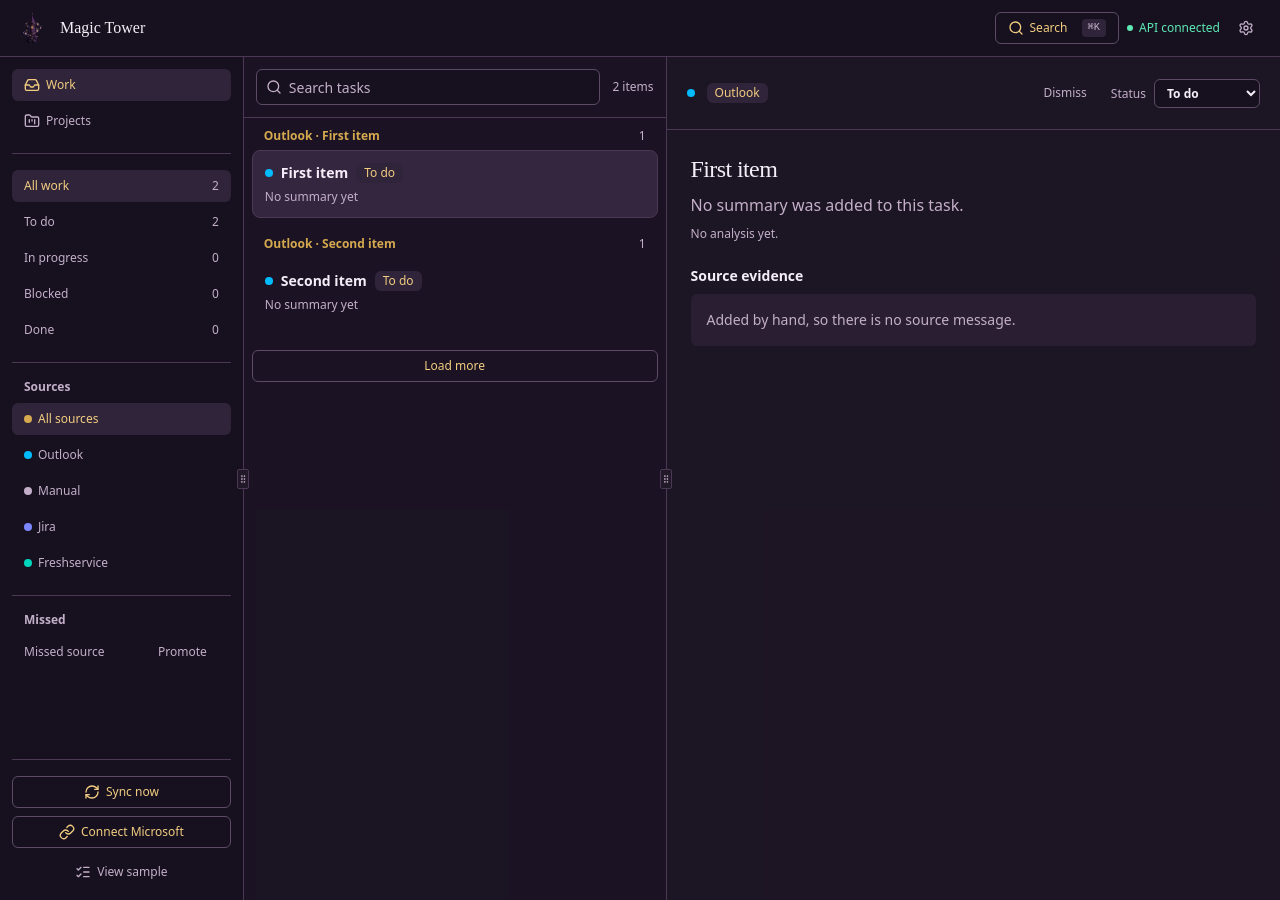
Test case: Promote and dismiss › dismiss removes the item from the visible list
Check: the text "First item" is shown, box [281, 163, 348, 183]
Step 1. Click the button "Dismiss" → (1065, 93), box [1031, 77, 1099, 109]
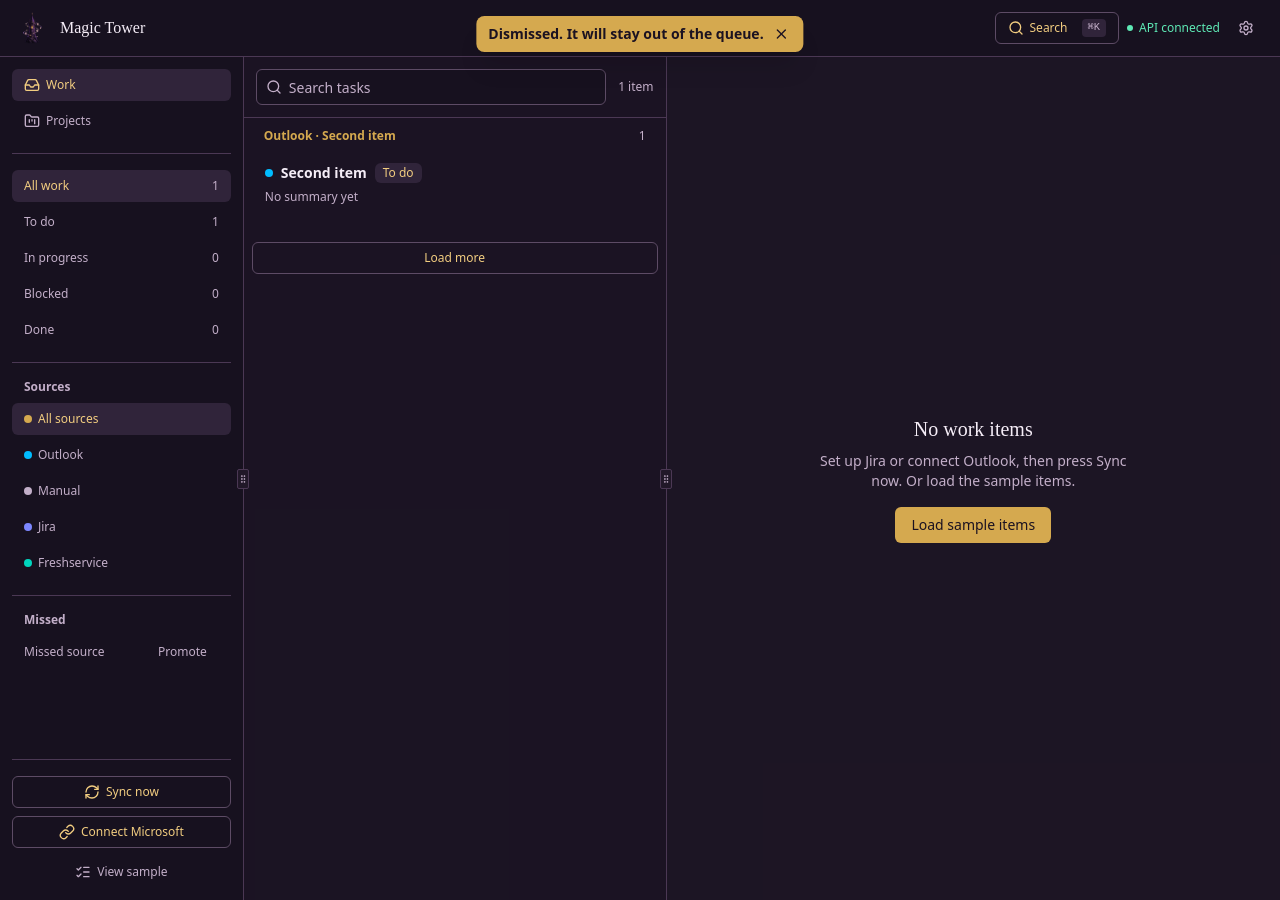
Check: the text "Second item" is shown, box [281, 163, 367, 183]
Check: the heading "First item" is gone
